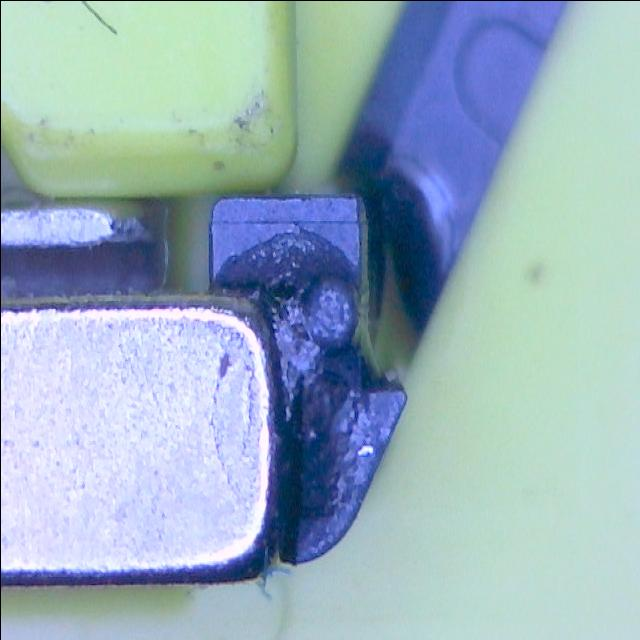over: (282, 346, 354, 520)
